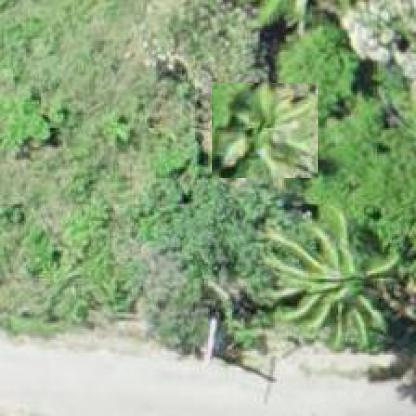coconut tree: (260, 210, 396, 350), (212, 83, 319, 179)
